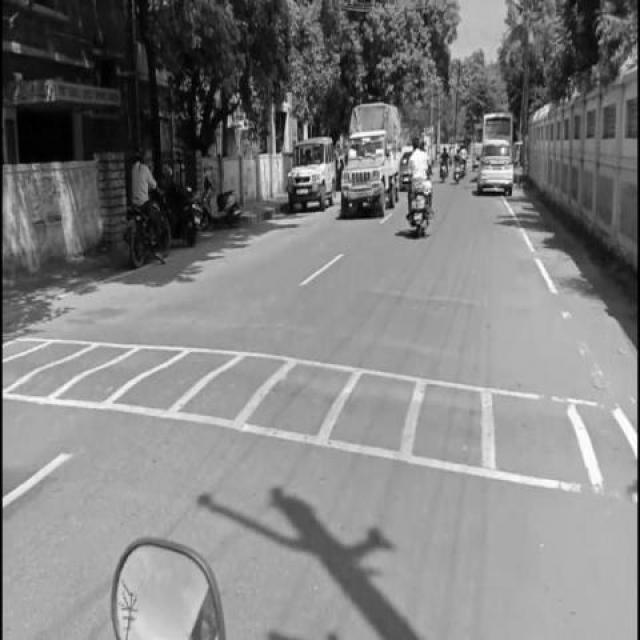Speed Bump: (3, 336, 638, 499)
